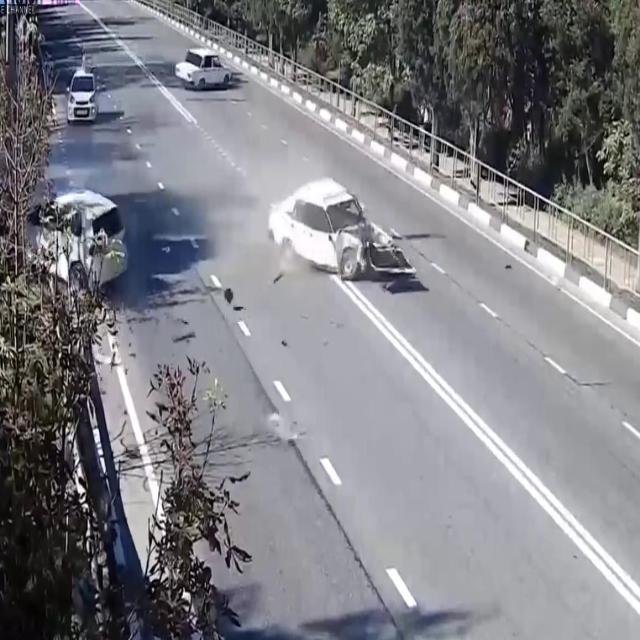accident: (0, 160, 146, 312), (264, 173, 422, 304)
